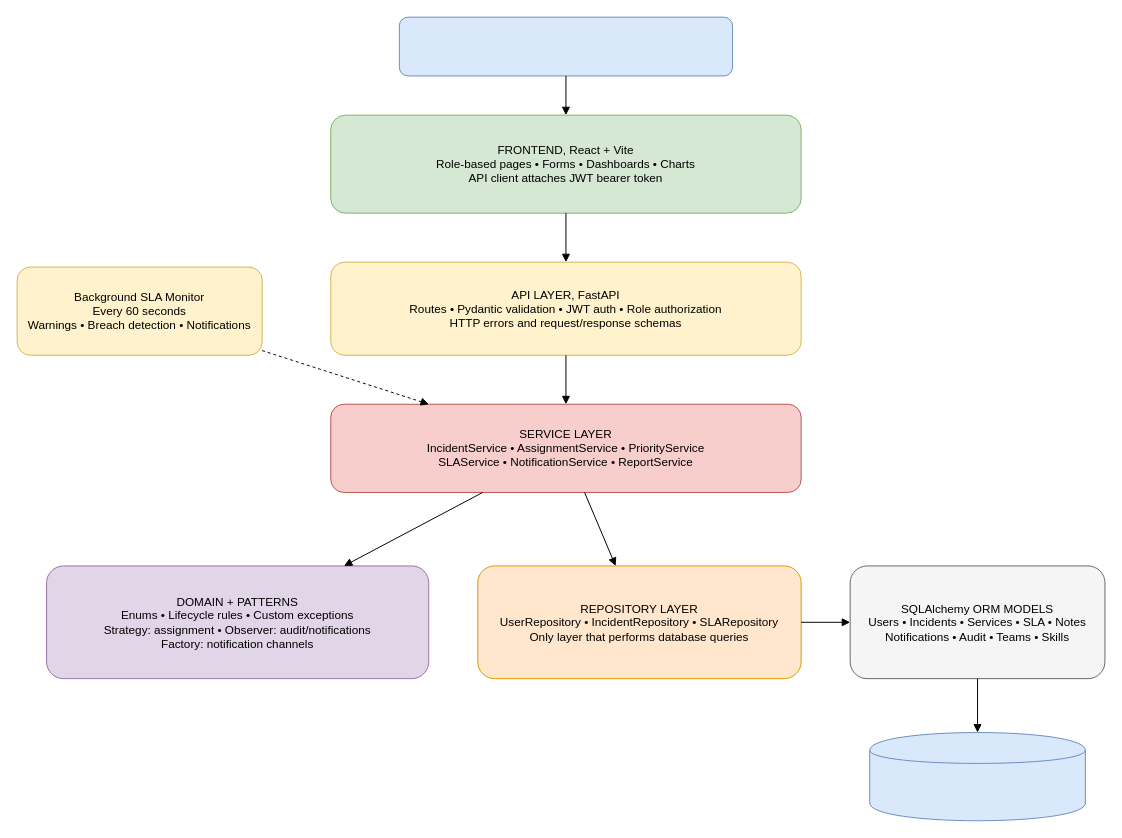
The diagram is 1122 pixels wide and 838 high, and some of its shapes have lost their labels. Each missing label, with the centre of its shape:
"DATABASE SQLite: itsm.db PostgreSQL-ready via DATABASE_URL" goes at point 977,776.
"Users Employee | Technician | Administrator" goes at point 565,46.
